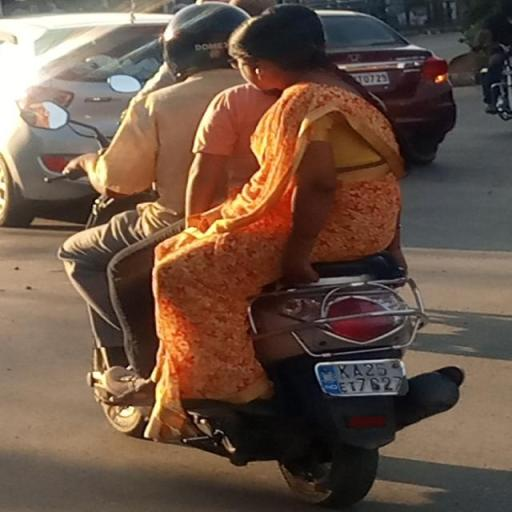tripple riding: (14, 0, 424, 290)
